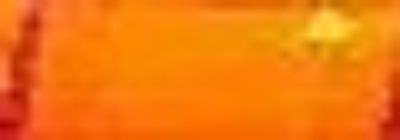Hotspot: (293, 7, 363, 57)
